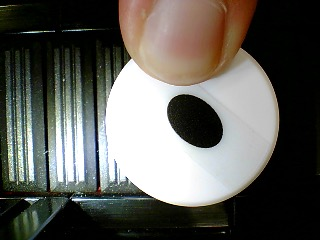BOHOEL: (105, 41, 280, 208)
